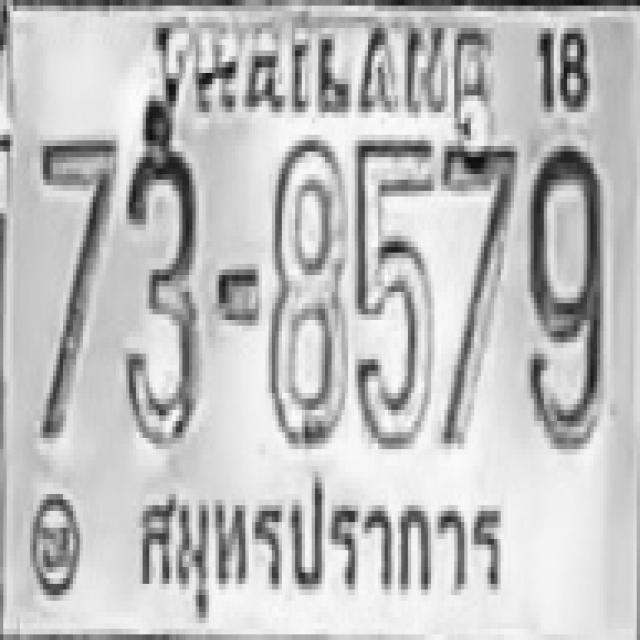3: (123, 126, 199, 441)
5: (352, 132, 434, 446)
7: (438, 135, 517, 449), (40, 132, 116, 441)
8: (267, 134, 343, 443)
9: (527, 140, 604, 449)
SamutPrakan: (134, 458, 512, 634)
